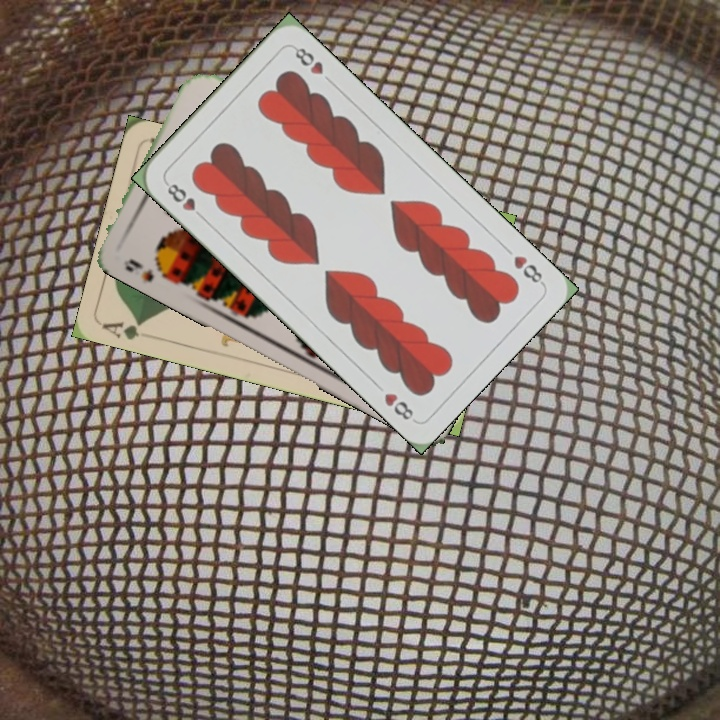GA: (99, 316, 146, 343)
H8: (161, 178, 208, 223), (509, 251, 547, 288)
S9: (119, 254, 172, 285)
